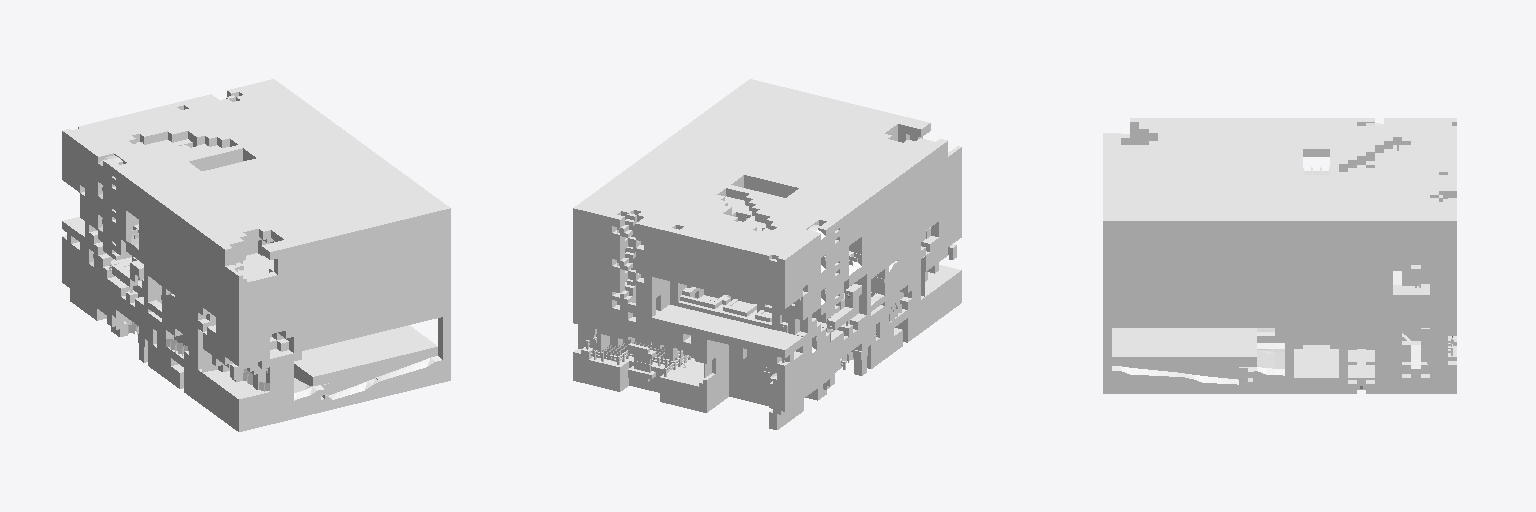
The model's file is slimefarm.obj.
3 renders of one model, left to right at view 1: azimuth 30°, elevation 25°; view 2: azimuth 150°, elevation 25°; view 3: azimuth 270°, elevation 25°, orthographic.
Parts seen in each view (by area): view 1: Etho's_LP_Ep550__-314_35_170_to_-288_55_208; view 2: Etho's_LP_Ep550__-314_35_170_to_-288_55_208; view 3: Etho's_LP_Ep550__-314_35_170_to_-288_55_208.
Boxes of the visible parts, <box> form: Etho's_LP_Ep550__-314_35_170_to_-288_55_208: <box>62,79,450,431</box>; Etho's_LP_Ep550__-314_35_170_to_-288_55_208: <box>573,79,961,429</box>; Etho's_LP_Ep550__-314_35_170_to_-288_55_208: <box>1103,118,1456,393</box>.
Bounding box in the file's own units: 27.12 × 21.06 × 39.